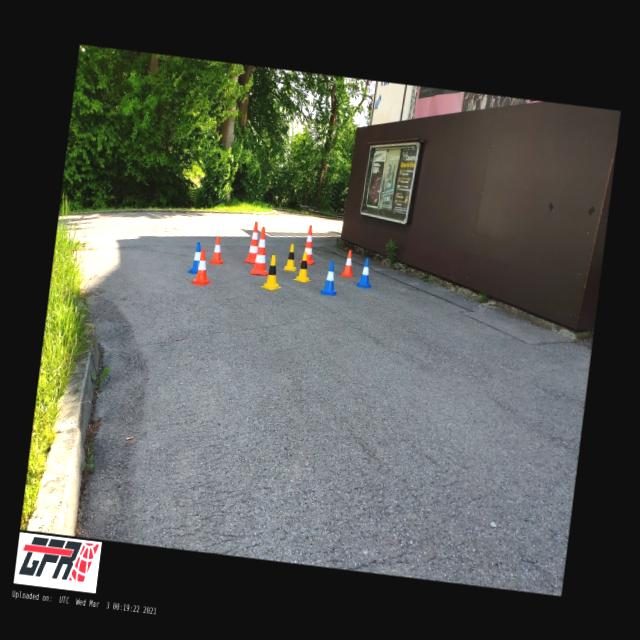blue_cone: (320, 260, 338, 296), (188, 241, 205, 274), (356, 256, 373, 288)
large_orange_cone: (250, 227, 274, 276), (298, 224, 318, 265), (242, 220, 260, 263)
orange_cone: (190, 248, 213, 286), (208, 236, 226, 265), (340, 249, 356, 277)
yellow_cone: (260, 253, 284, 291), (294, 250, 314, 282), (282, 243, 298, 271)
